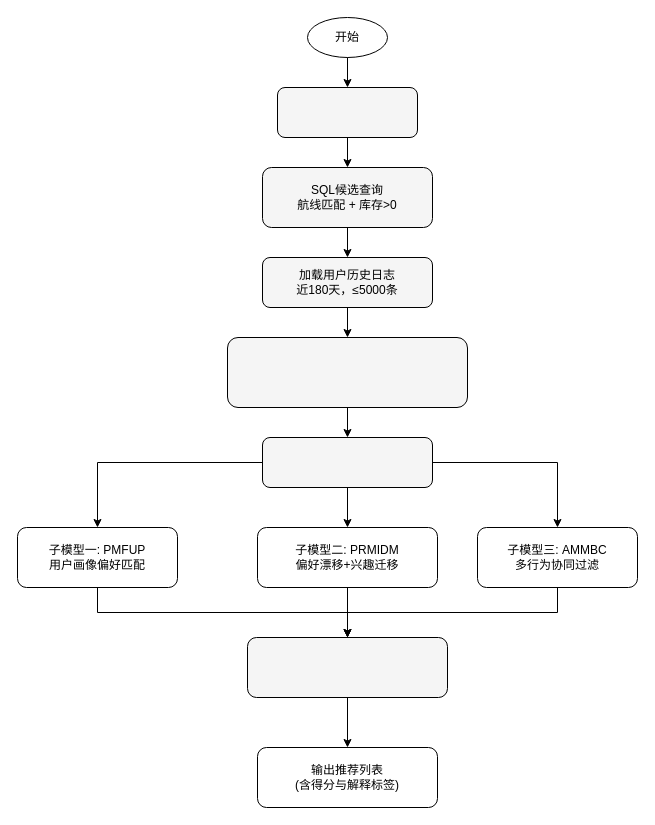
This 655x825 diagram has some shape labels left out. Each missing label, with the centre of its shape:
信号赋权 + 时间衰减 曝光0.15 / 点击2.0 / 预选5.0 / 评分1~2 衰减因子 e^{-0.018×天数}: the point at 347,372
拆分偏好 近期(30天) / 长期(180天): the point at 347,462
自适应权重融合 计算 w1,w2,w3 → 加权融合: the point at 347,667
舱位级联筛选 确定可见餐食类型: the point at 347,112
